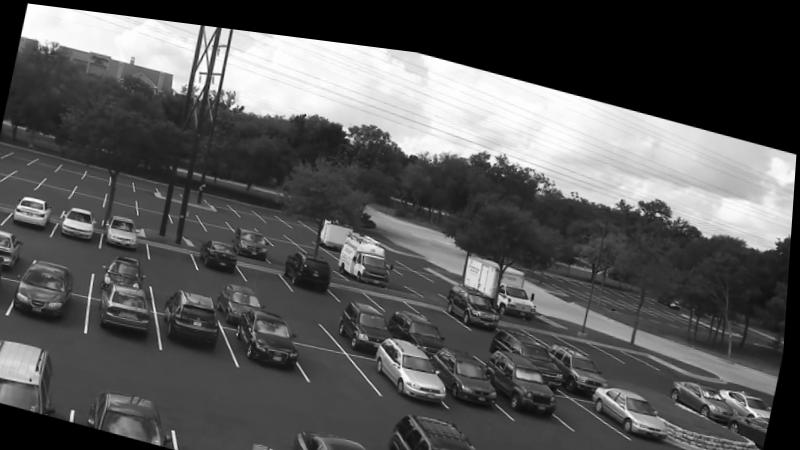empty: (179, 399, 280, 450), (303, 333, 387, 384), (559, 381, 631, 425), (287, 299, 333, 333), (151, 237, 204, 265), (45, 243, 96, 272), (594, 327, 660, 348), (416, 293, 470, 315), (568, 324, 622, 345), (244, 259, 292, 282), (370, 283, 423, 302), (456, 325, 497, 345), (388, 250, 432, 268), (71, 189, 109, 209), (39, 181, 77, 200), (161, 272, 202, 289), (336, 277, 379, 293), (529, 315, 574, 330), (137, 203, 176, 220), (173, 210, 212, 227), (46, 172, 80, 189), (107, 196, 139, 214), (5, 174, 43, 189), (208, 190, 239, 208), (167, 200, 201, 216), (110, 172, 139, 190), (271, 231, 308, 245), (303, 236, 339, 250), (78, 180, 111, 195), (0, 186, 26, 205), (108, 188, 142, 202), (198, 205, 232, 219), (141, 192, 171, 207), (237, 200, 266, 215), (36, 189, 65, 204), (228, 209, 259, 223), (86, 166, 114, 181), (18, 167, 50, 180), (288, 223, 322, 235), (135, 176, 162, 191), (205, 216, 237, 228), (11, 151, 37, 165), (259, 219, 292, 230), (63, 162, 87, 176), (286, 211, 316, 222), (263, 206, 290, 218), (35, 158, 61, 170), (271, 244, 299, 255), (0, 207, 15, 225), (193, 230, 216, 241), (0, 161, 21, 172), (0, 146, 16, 158), (0, 171, 12, 181)
occupied: (0, 337, 68, 414), (369, 328, 451, 389), (385, 401, 484, 450), (489, 337, 561, 402), (433, 335, 505, 393), (236, 300, 303, 362), (97, 384, 167, 441), (164, 283, 227, 346), (597, 372, 673, 423), (19, 256, 80, 319), (450, 272, 509, 322), (387, 298, 450, 344), (676, 363, 741, 407), (341, 222, 393, 277), (104, 277, 155, 333), (555, 329, 609, 378), (496, 317, 563, 356), (342, 292, 395, 340), (287, 423, 379, 450), (285, 245, 335, 293), (221, 277, 265, 320), (732, 394, 774, 429), (16, 195, 55, 230), (202, 234, 239, 269), (236, 221, 274, 253), (109, 212, 142, 246), (64, 206, 98, 238), (110, 253, 143, 282), (0, 230, 26, 264), (0, 252, 13, 295)
